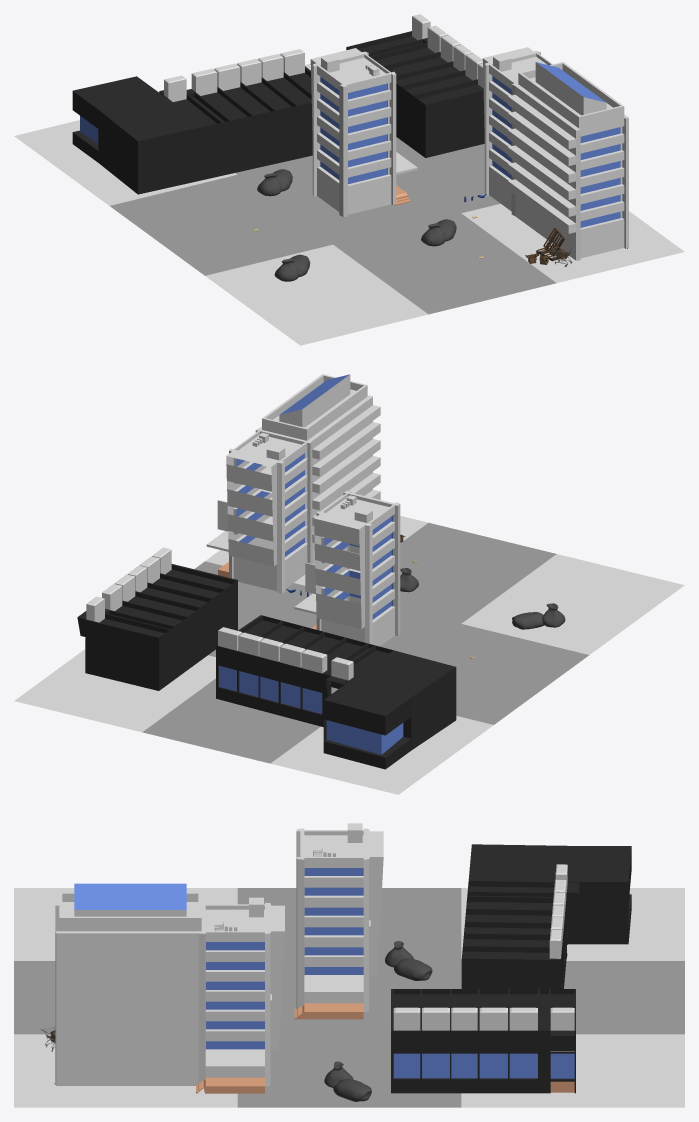
Rendered from city.glb.
3 views of the same model, one above another, from view 1: azimuth 30°, elevation 25°; view 2: azimuth 150°, elevation 25°; view 3: azimuth 270°, elevation 25° (orthographic). The views are drawn at different scales.
Parts seen in each view (by area): view 1: Builidings, Ground, WasteBasket3, WasteBasket4, WasteBasket2; view 2: Builidings, Ground, WasteBasket3; view 3: Builidings, Ground, WasteBasket1, WasteBasket4.
Part boxes in pixels (x1,y1,x2,y2): Builidings: (72, 14, 628, 260); Ground: (14, 63, 684, 345); WasteBasket3: (274, 254, 310, 281); WasteBasket4: (257, 169, 292, 196); WasteBasket2: (421, 219, 456, 246); Builidings: (77, 374, 456, 769); Ground: (14, 516, 684, 794); WasteBasket3: (512, 603, 565, 629); Builidings: (54, 823, 631, 1093); Ground: (14, 888, 684, 1107); WasteBasket1: (324, 1061, 371, 1101); WasteBasket4: (385, 941, 432, 980).
Size of the model in its own units: 21.6 by 8.44 by 27.87.
Materials: 12 (2 with a texture image).
